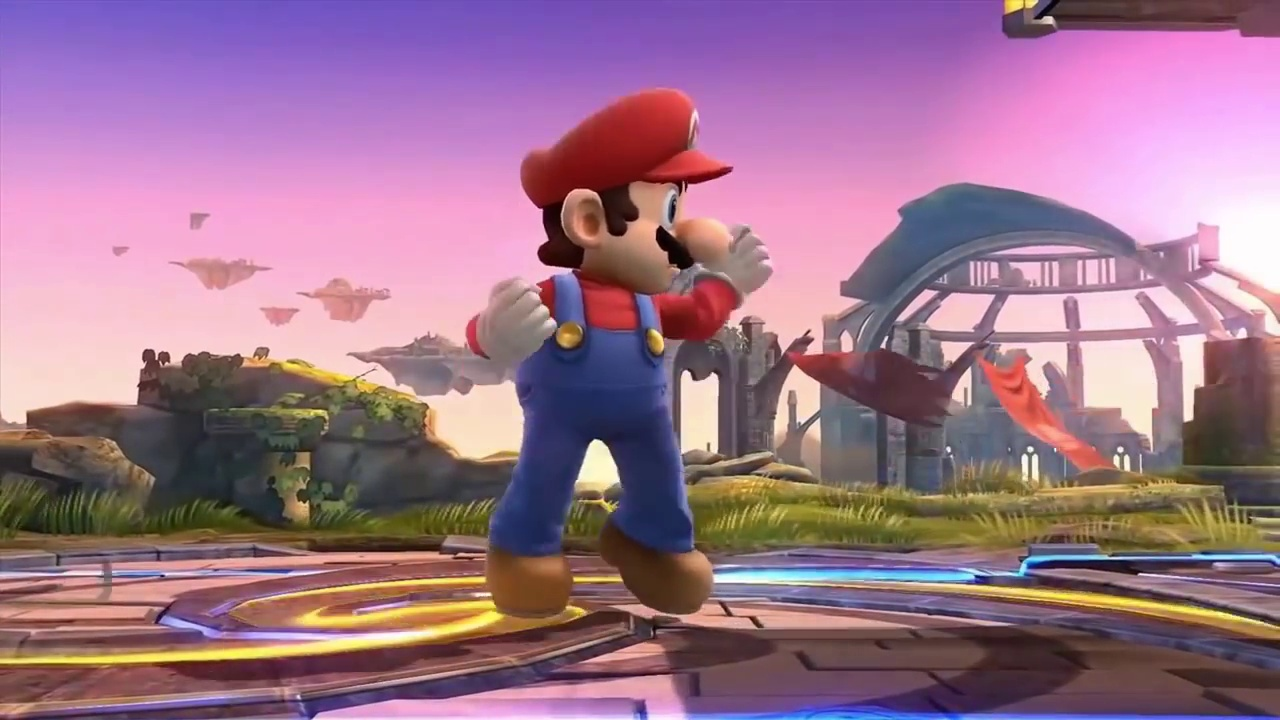Mario: (466, 84, 771, 619)
